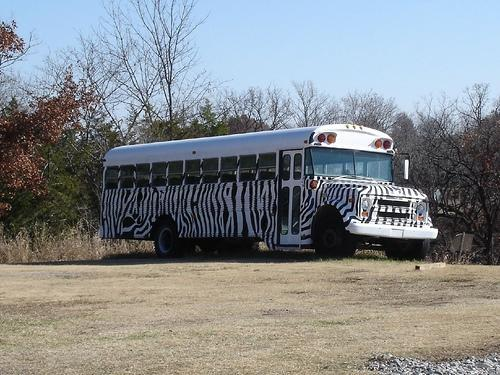bus: (100, 122, 440, 260)
